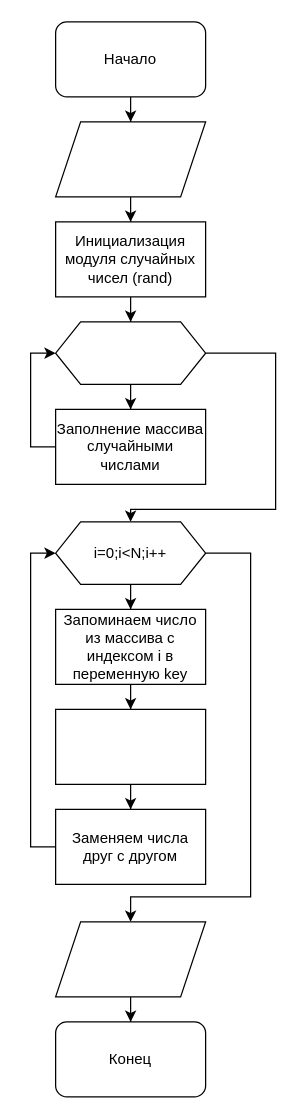
This 308x1119 diagram has some shape labels left out. Each missing label, with the centre of its shape:
i<N; i++: (x=130, y=352)
Ввод размер массива (N): (x=130, y=159)
Выбираем случайное число больше выбранного индекса: (x=130, y=746)
Вывод массива: (x=130, y=959)
